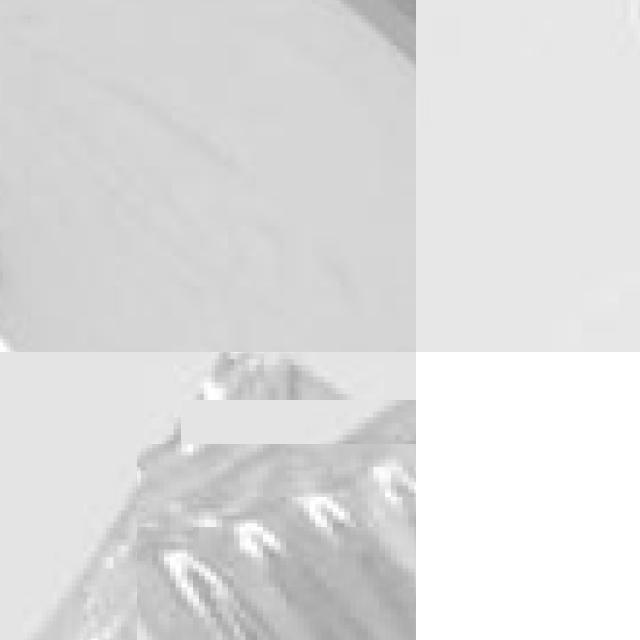forks: (159, 422, 416, 640)
spoons: (0, 0, 416, 352)
